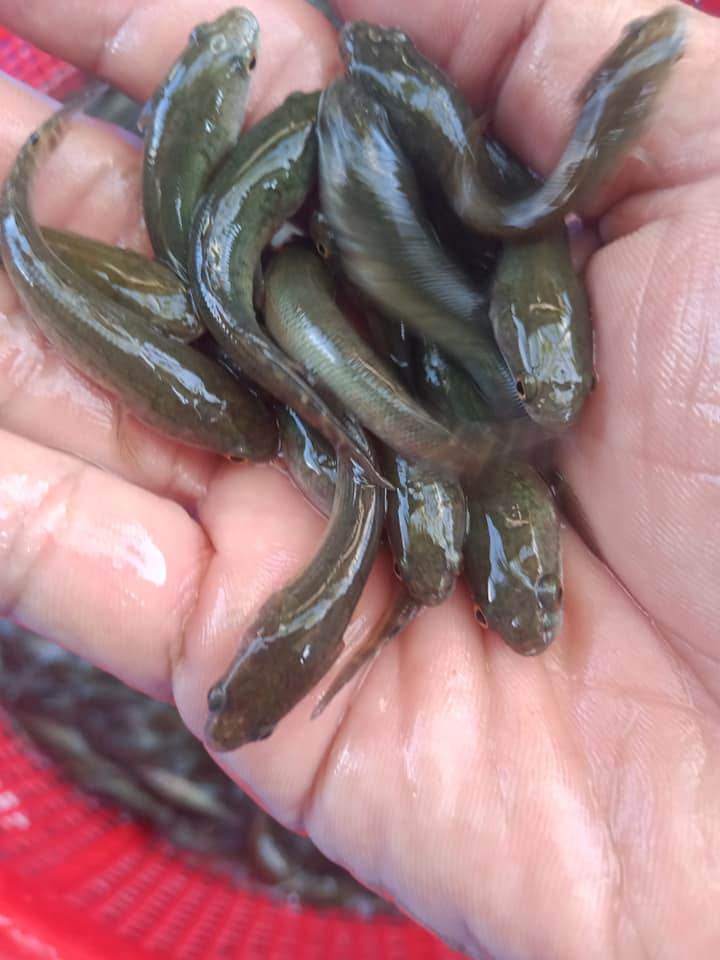fish: (179, 529, 376, 734), (262, 243, 426, 439), (340, 20, 507, 203), (210, 89, 324, 308), (70, 350, 280, 465), (152, 14, 246, 253), (326, 78, 417, 284), (480, 478, 574, 663), (484, 258, 589, 421), (20, 235, 201, 323), (375, 464, 472, 606)
